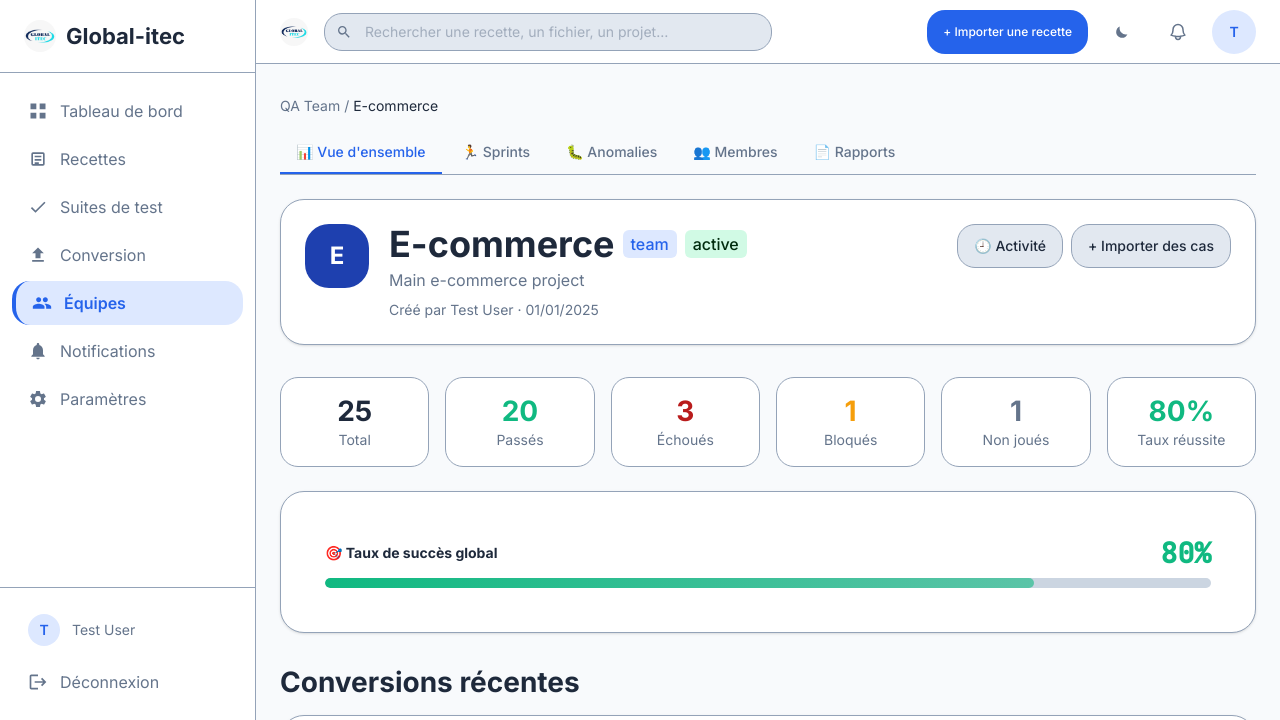
Scenario: ProjectDetailPage › shows PDF report buttons for lead role
Click the button "📄 Rapports" at (854, 153), box [798, 132, 911, 174]
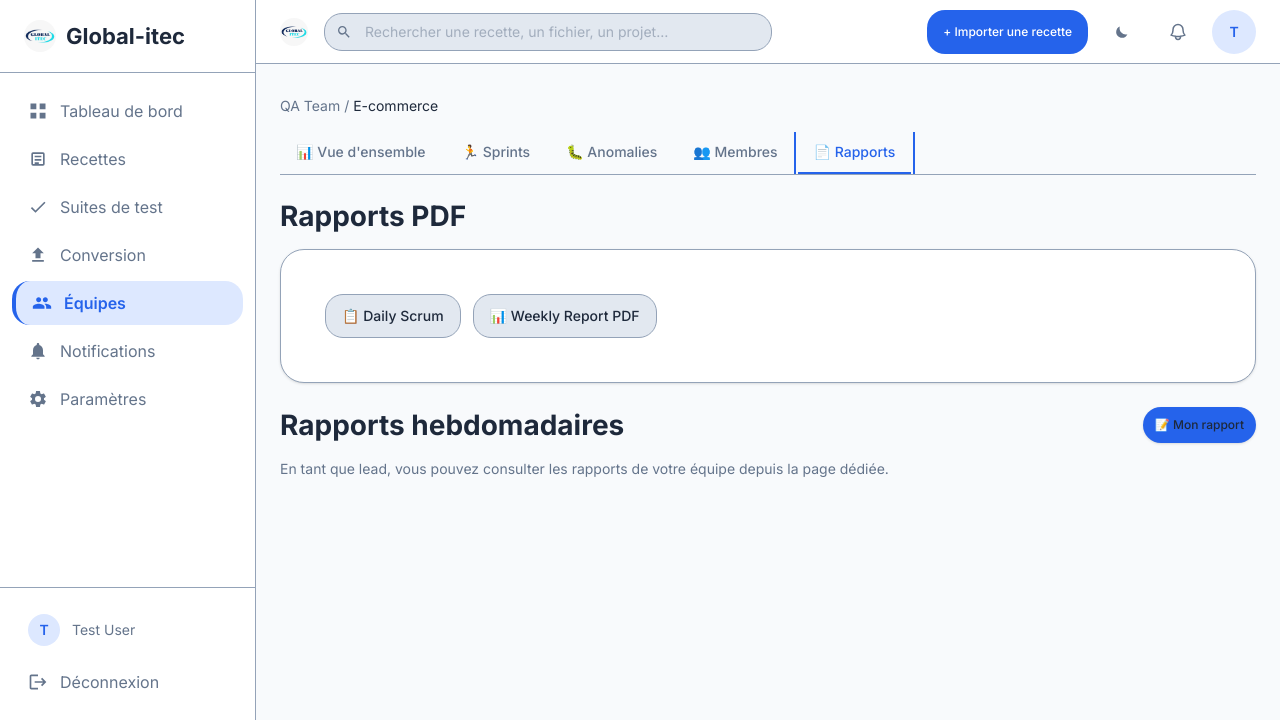
Expected: the button "📋 Daily Scrum" is shown, [325, 294, 461, 338]
Expected: the button "📊 Weekly Report PDF" is shown, [473, 294, 656, 338]
